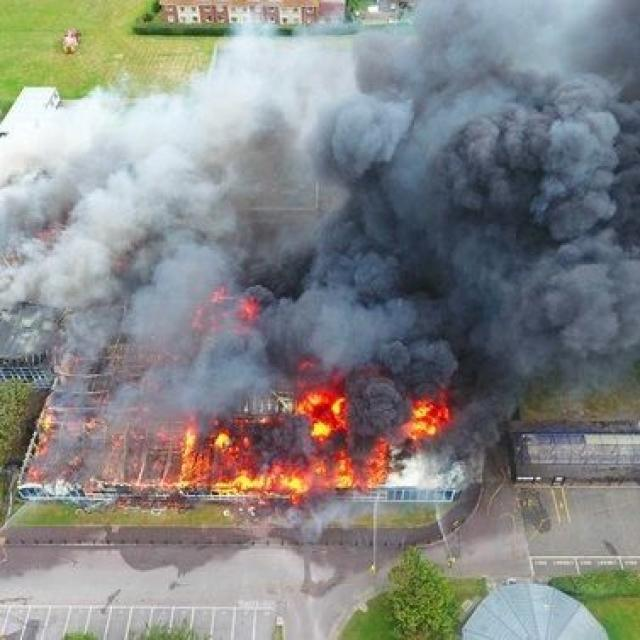Fire: (35, 339, 472, 498)
Smoke: (29, 13, 640, 345)
